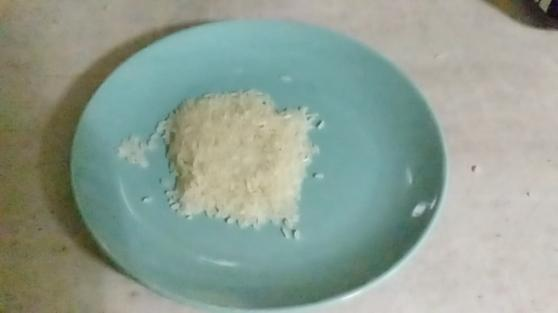rice: (134, 81, 331, 240)
